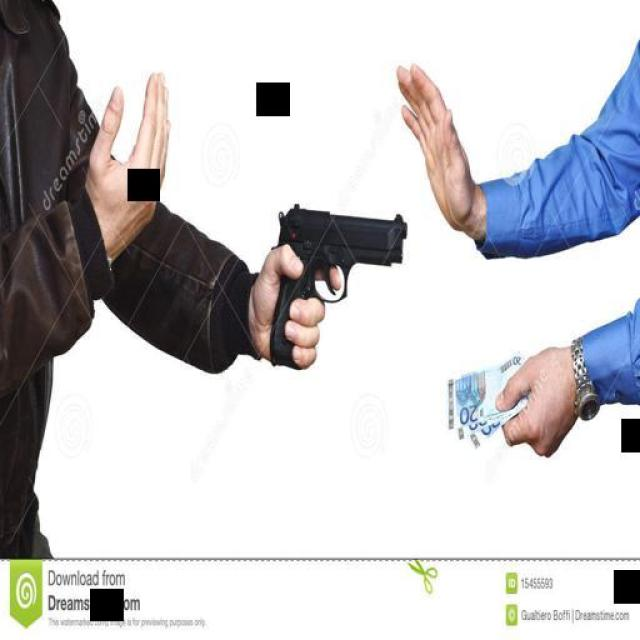gun: (269, 192, 406, 368)
